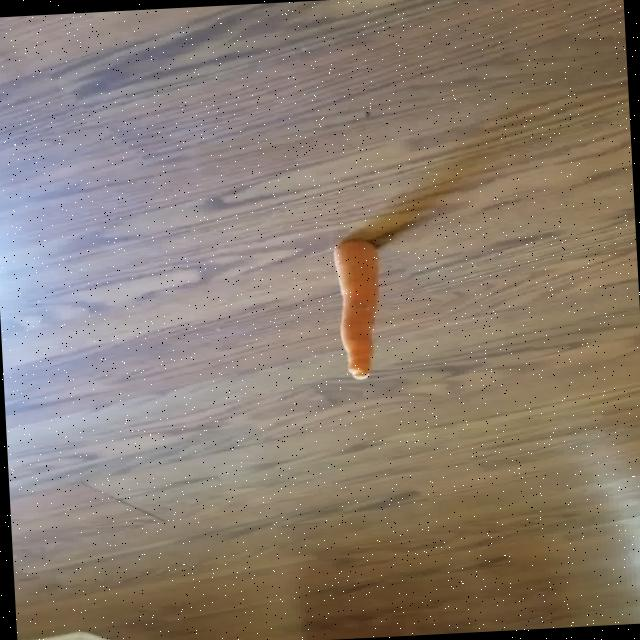carrot: (332, 239, 378, 378)
